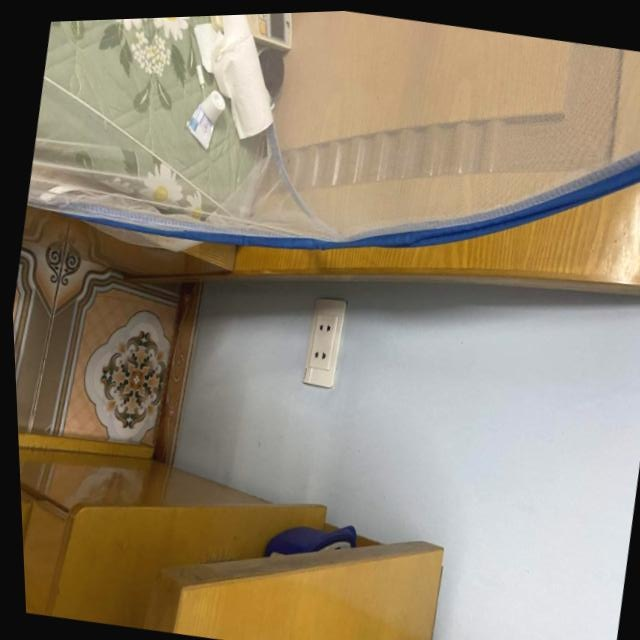outlet: (299, 293, 352, 390)
